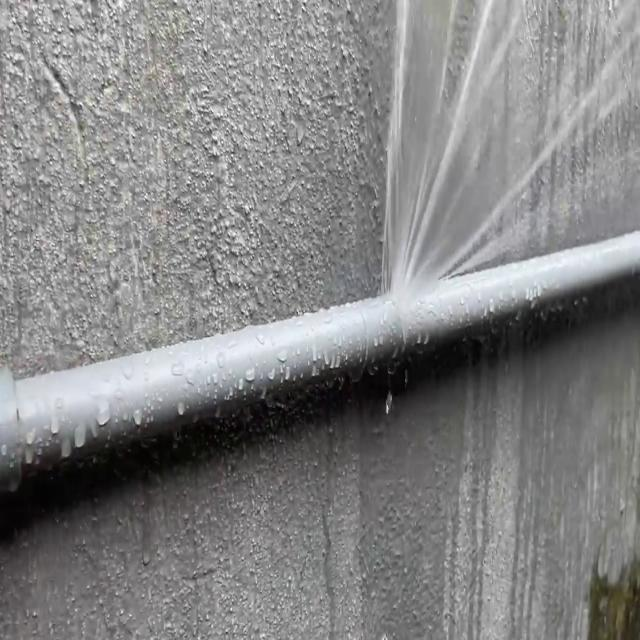leak: (381, 0, 640, 298)
